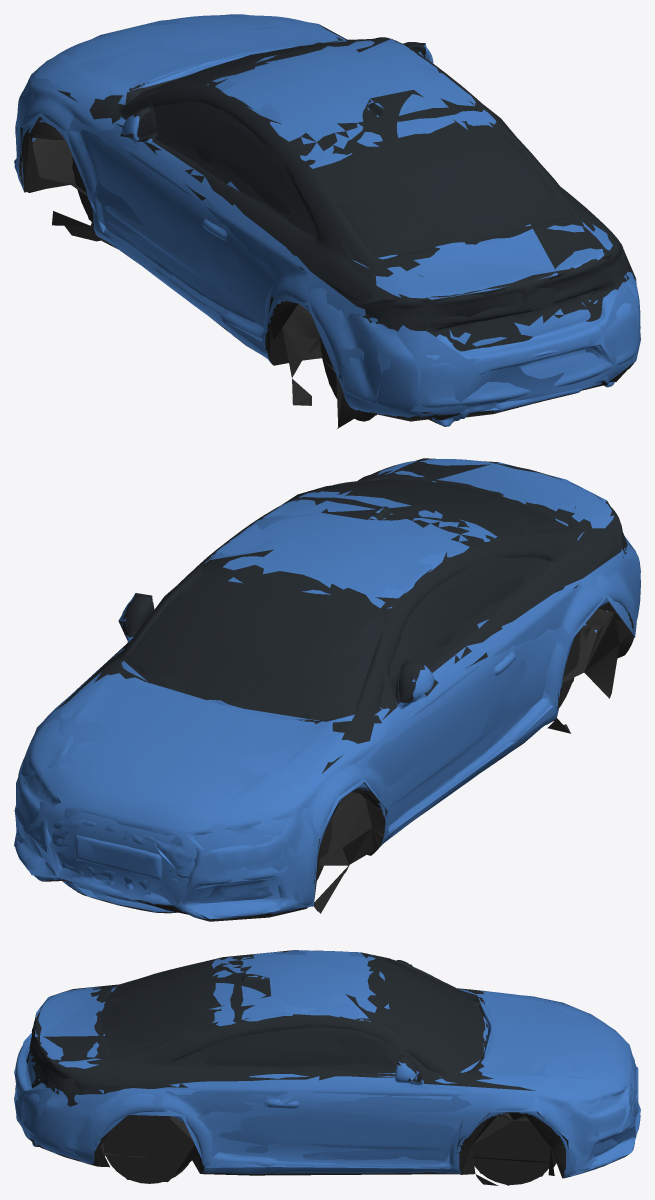
File: audi-tts-coupe.glb
3 views of the same model, one above another, from view 1: azimuth 30°, elevation 25°; view 2: azimuth 150°, elevation 25°; view 3: azimuth 270°, elevation 25° (orthographic). The views are drawn at different scales.
Visible parts, largest first — view 1: body, far; view 2: body, far; view 3: body, far.
Part boxes in pixels (x1=…): body: x1=14, y1=14, x2=640, y2=428; far: x1=14, y1=14, x2=640, y2=426; body: x1=14, y1=459, x2=640, y2=921; far: x1=14, y1=458, x2=640, y2=918; body: x1=15, y1=950, x2=640, y2=1185; far: x1=14, y1=950, x2=640, y2=1185.
Size of the model in its own units: 1.77 by 1.31 by 4.27.
